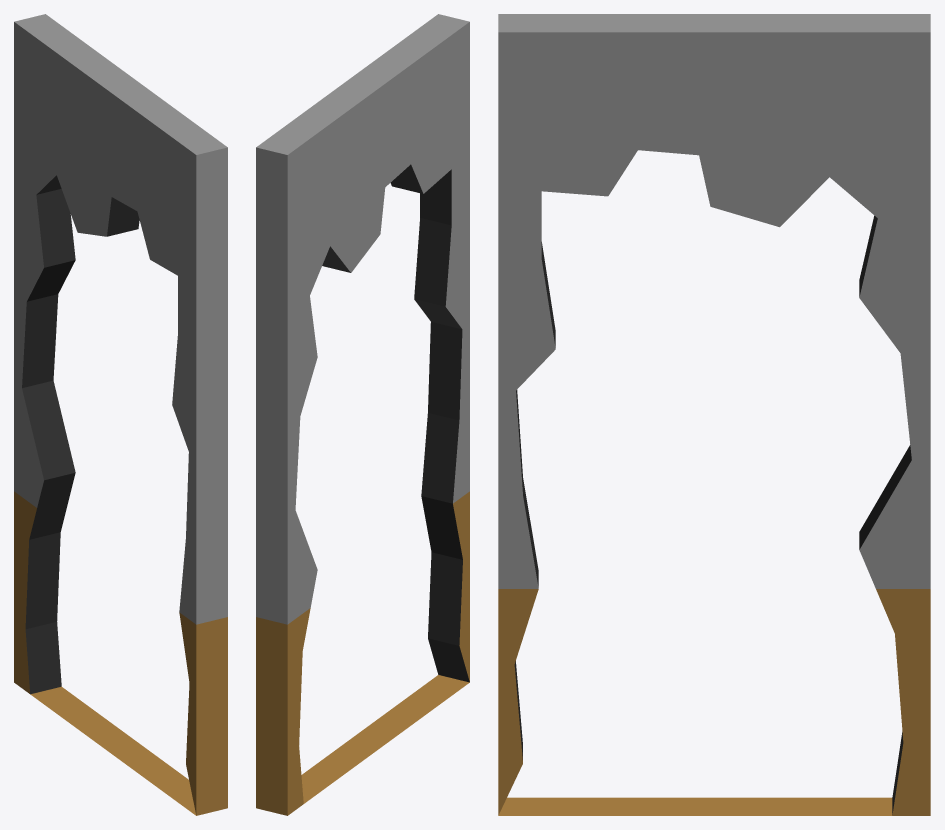
The model's file is SM_WallDestroid.fbx.
3 renders of one model, left to right at view 1: azimuth 30°, elevation 25°; view 2: azimuth 150°, elevation 25°; view 3: azimuth 270°, elevation 25°, orthographic. The views are drawn at different scales.
Parts seen in each view (by area): view 1: SM_Wall_2x4; view 2: SM_Wall_2x4; view 3: SM_Wall_2x4.
Boxes of the visible parts, left/top/right/bottom form: SM_Wall_2x4: left=14, top=14, right=227, bottom=815; SM_Wall_2x4: left=256, top=14, right=469, bottom=815; SM_Wall_2x4: left=498, top=14, right=930, bottom=815.
Size of the model in its own units: 20 by 400 by 200.
